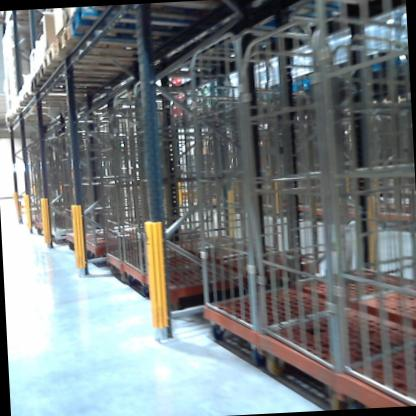pallet: (68, 0, 213, 48), (55, 14, 202, 57), (40, 35, 162, 78), (19, 83, 122, 115), (34, 54, 137, 85), (30, 68, 123, 102), (0, 11, 8, 27)
